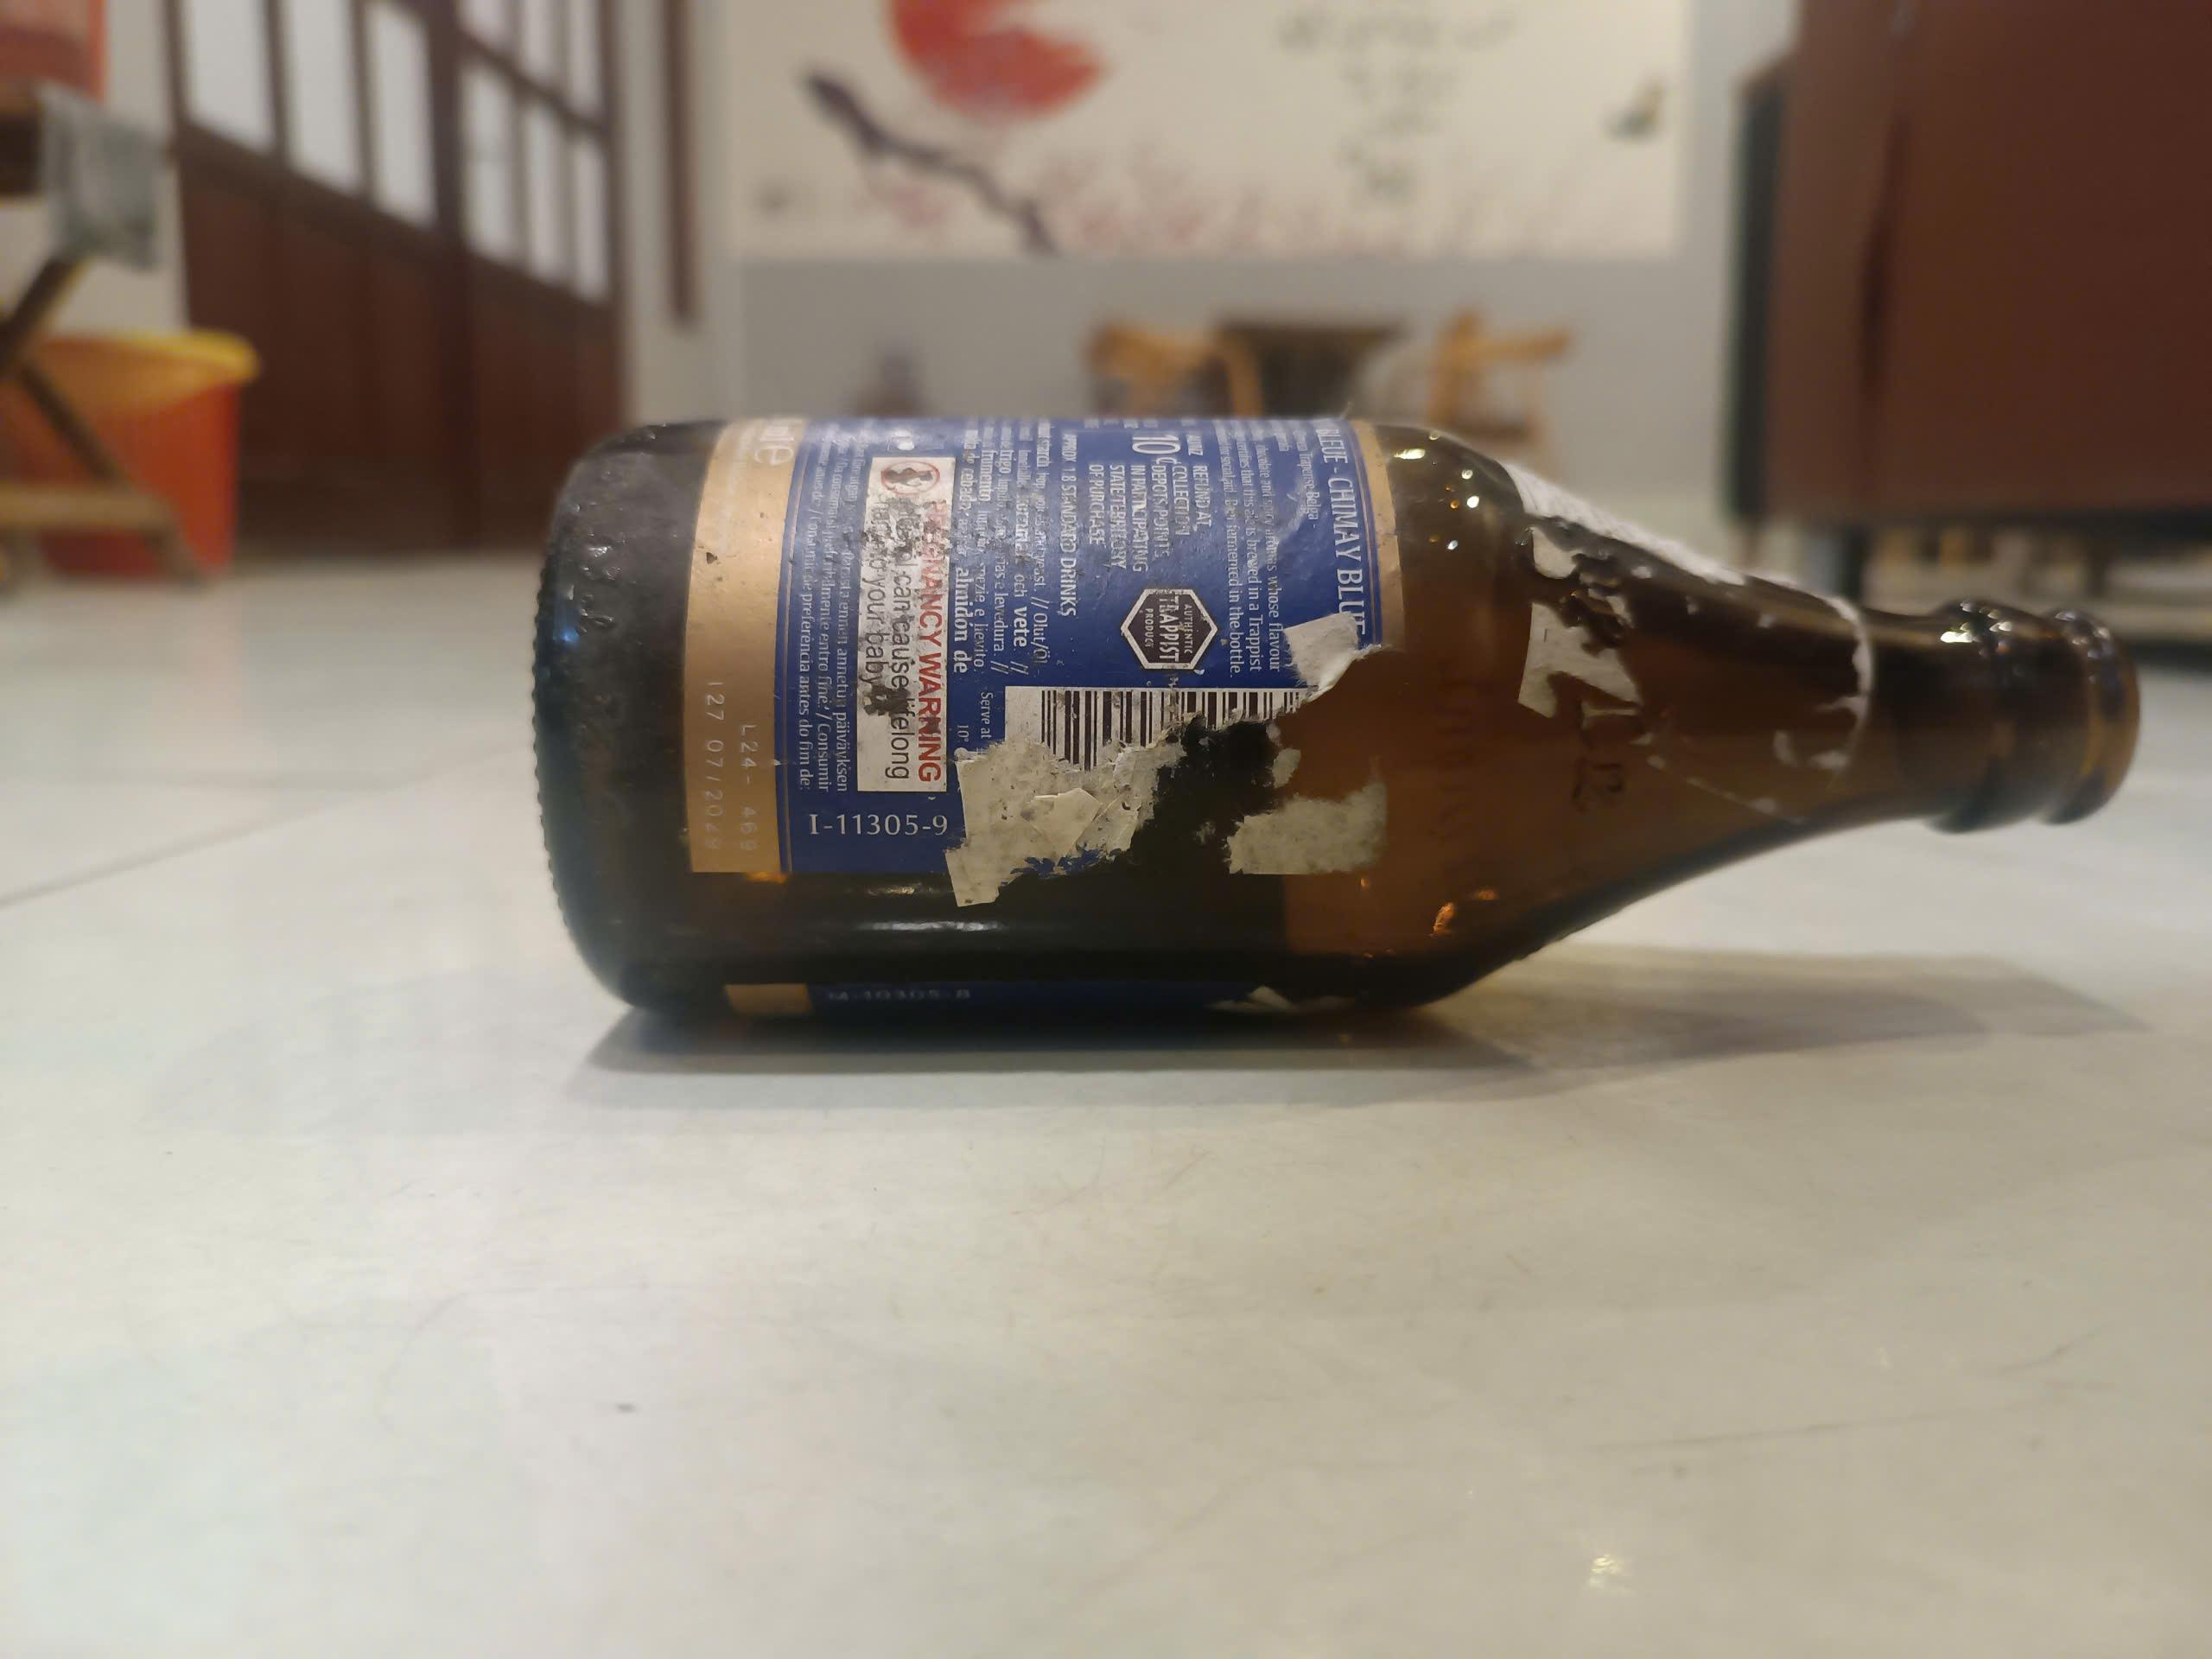Vo co: (542, 406, 2135, 1026)
